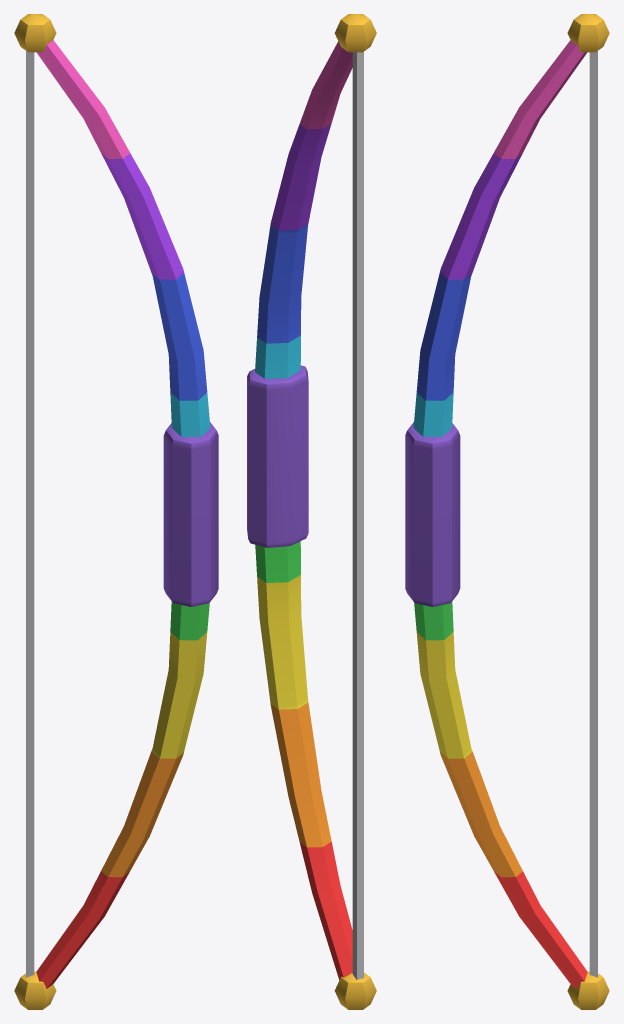
Rendered from RainbowBow.fbx.
The picture shows the model from 3 angles, left to right: view 1: azimuth 90°, elevation 25°; view 2: azimuth 210°, elevation 25°; view 3: azimuth 270°, elevation 25°; orthographic projection.
Parts seen in each view (by area): view 1: RainbowBow; view 2: RainbowBow; view 3: RainbowBow.
Part boxes in pixels (<box>): RainbowBow: <box>14,14,218,1009</box>; RainbowBow: <box>247,14,376,1009</box>; RainbowBow: <box>405,14,609,1009</box>.
Size of the model in its own units: 0.26 by 4.16 by 0.774.
Materials: 1 (1 with a texture image).
